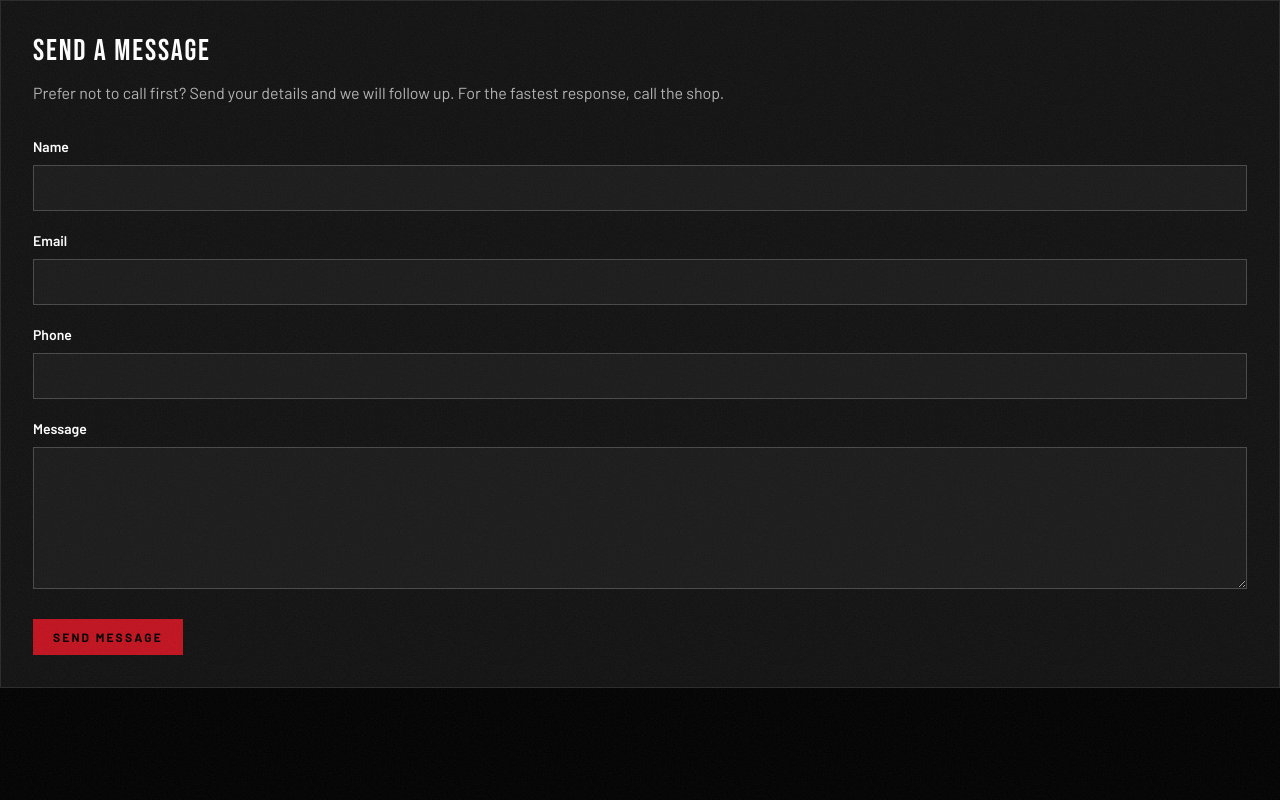
it: ContactForm › shows validation messages when required fields are empty
Click the button "Send message" at coordinates (108, 637), box [33,619,183,655]
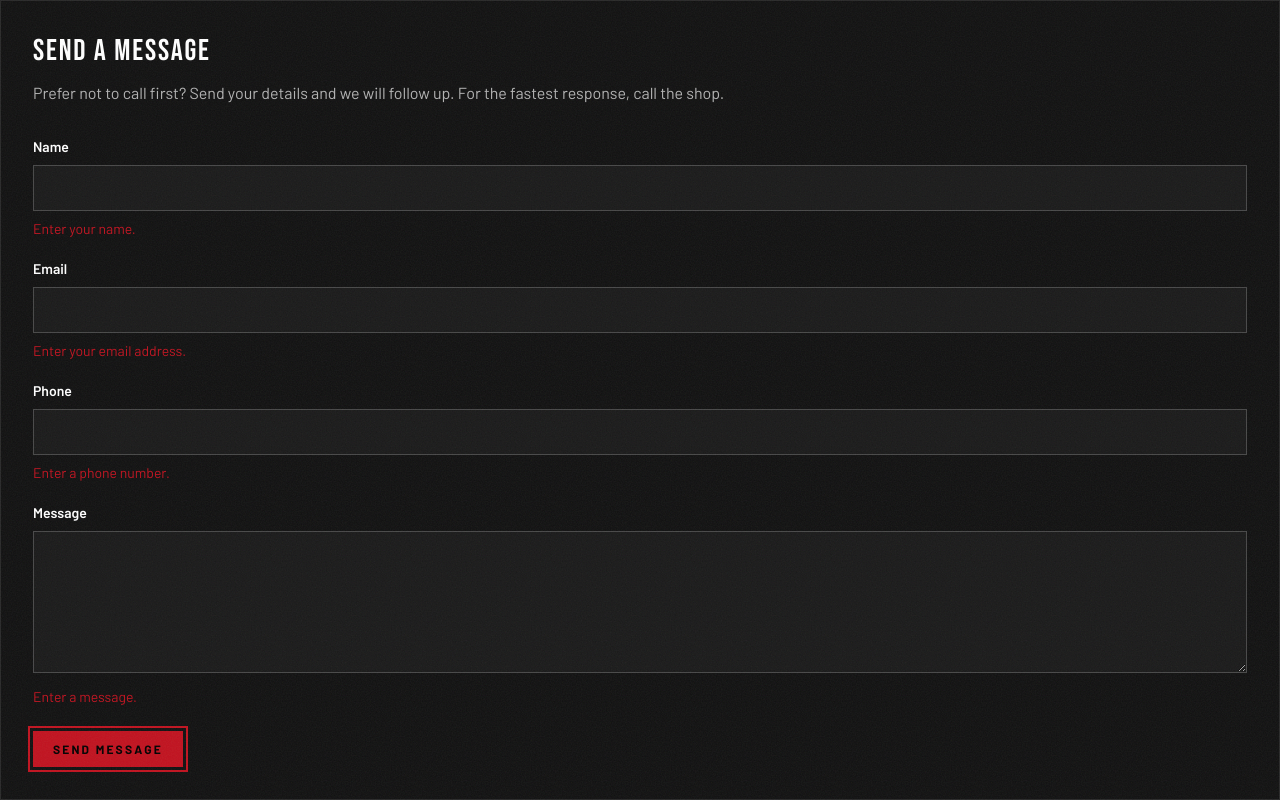
Expected: the text "Enter your name." is shown, [33,220,136,237]
Expected: the text "Enter your email address." is shown, [33,342,186,359]
Expected: the text "Enter a phone number." is shown, [33,464,170,481]
